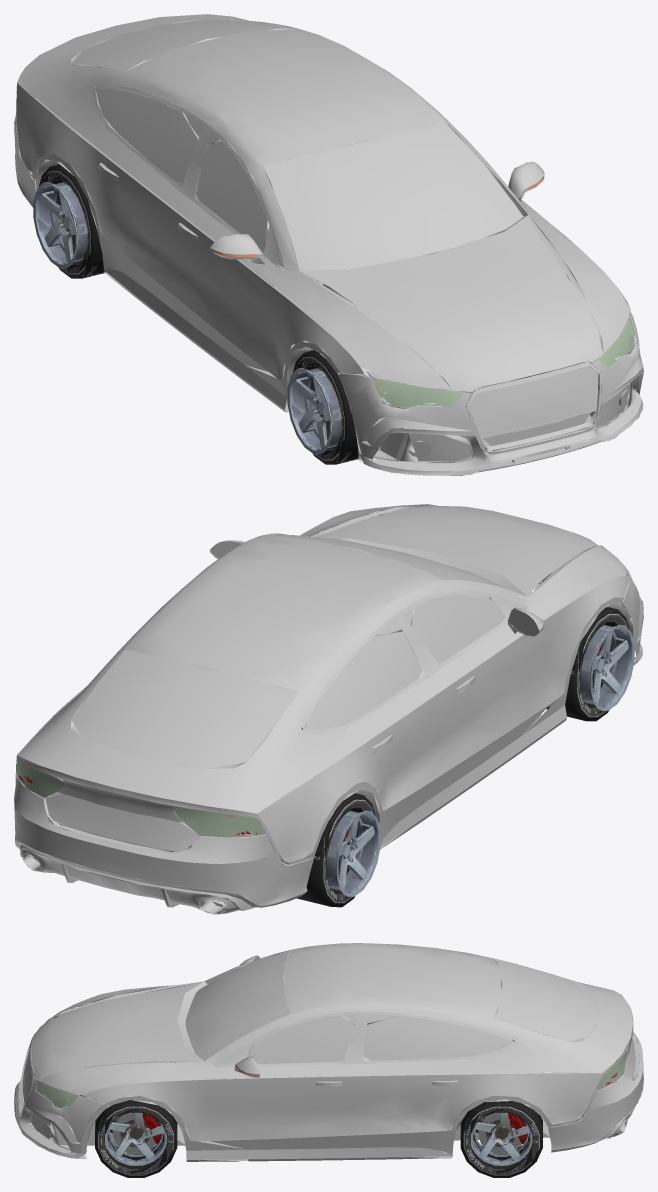
3 renders of one model, top to bottom at view 1: azimuth 30°, elevation 25°; view 2: azimuth 150°, elevation 25°; view 3: azimuth 270°, elevation 25°, orthographic. The views are drawn at different scales.
Visible parts, largest first — view 1: body.001, rim-rr.001, rim-fr.001, tire1-fr.001, tire1-rr.001; view 2: body.001, rim-rr.001, rim-fr.001, tire1-rr.001, tire1-fr.001; view 3: body.001, tire1-rl.001, tire1-fl.001, rim-rl.001, rim-fl.001, disk-fl.001, disk-rl.001.
Boxes of the visible parts, left/top/right/bottom form: body.001: left=14, top=14, right=643, bottom=475; rim-rr.001: left=33, top=182, right=87, bottom=268; rim-fr.001: left=287, top=368, right=341, bottom=454; tire1-fr.001: left=292, top=350, right=359, bottom=464; tire1-rr.001: left=38, top=164, right=104, bottom=278; body.001: left=14, top=504, right=643, bottom=914; rim-rr.001: left=326, top=810, right=380, bottom=896; rim-fr.001: left=580, top=624, right=634, bottom=710; tire1-rr.001: left=297, top=793, right=375, bottom=907; tire1-fr.001: left=546, top=607, right=629, bottom=721; body.001: left=14, top=943, right=643, bottom=1161; tire1-rl.001: left=460, top=1101, right=542, bottom=1177; tire1-fl.001: left=95, top=1100, right=177, bottom=1177; rim-rl.001: left=470, top=1112, right=532, bottom=1165; rim-fl.001: left=105, top=1112, right=167, bottom=1165; disk-fl.001: left=112, top=1112, right=156, bottom=1154; disk-rl.001: left=478, top=1112, right=521, bottom=1154.
Bounding box in the file's own units: 216 × 137 × 496.
